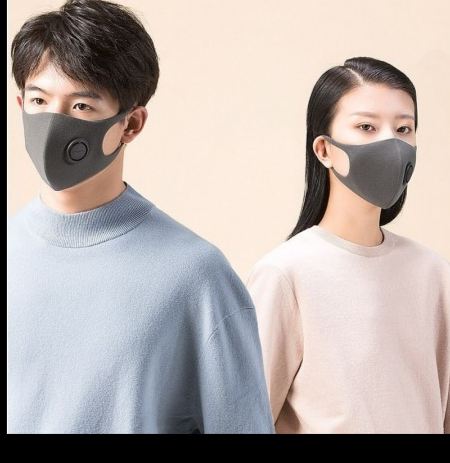with_mask: (21, 81, 120, 189), (330, 105, 416, 208)
